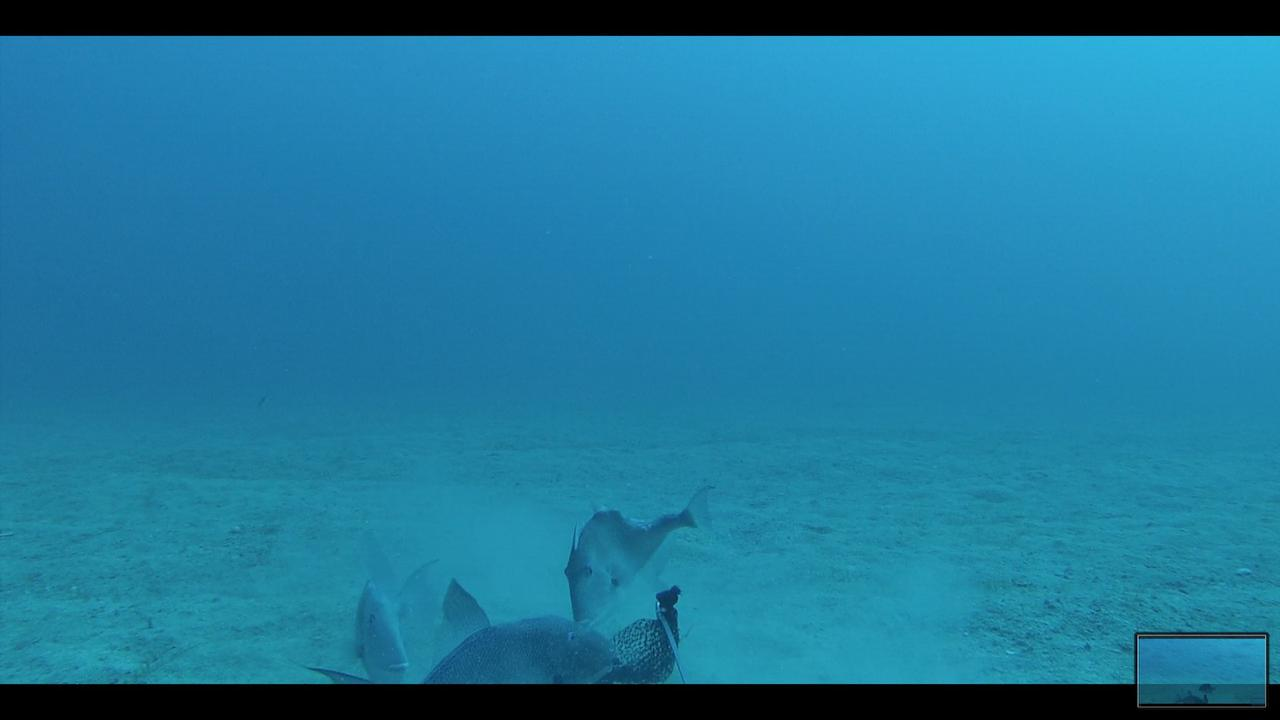balistes: (283, 574, 617, 682), (554, 478, 724, 628), (332, 531, 445, 682)
